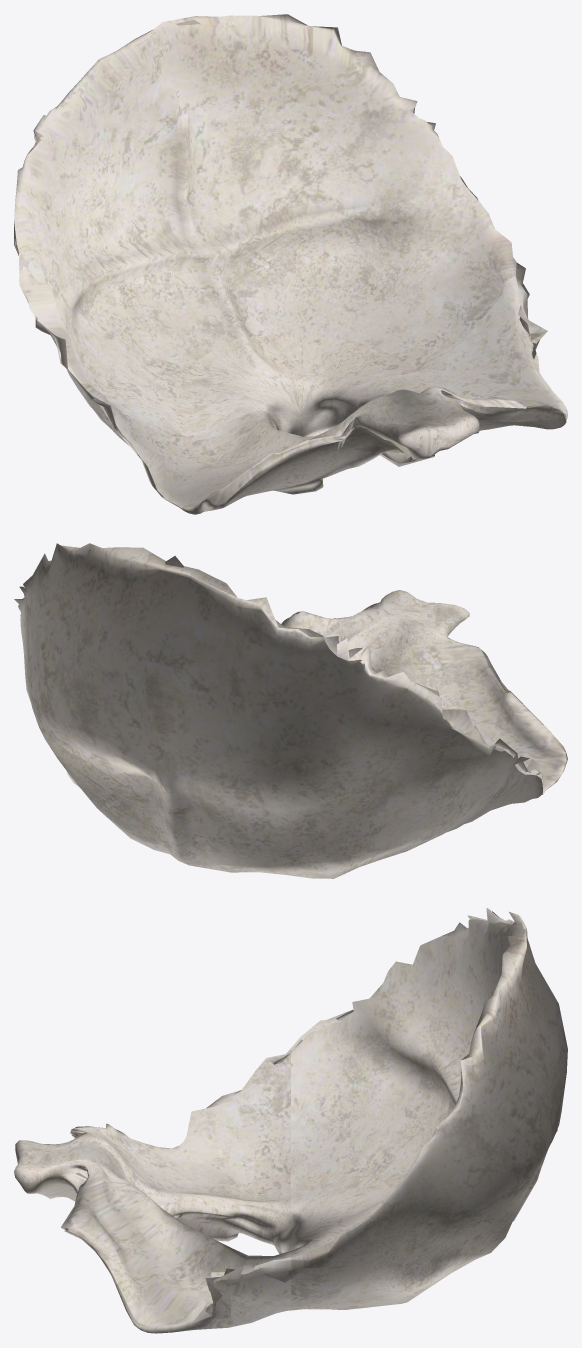
Rendered from Occipital.obj.
3 renders of one model, top to bottom at view 1: azimuth 30°, elevation 25°; view 2: azimuth 150°, elevation 25°; view 3: azimuth 270°, elevation 25°, orthographic. The views are drawn at different scales.
Parts seen in each view (by area): view 1: Occipital1:pPipe7; view 2: Occipital1:pPipe7; view 3: Occipital1:pPipe7.
Part boxes in pixels (bbox=[...]): Occipital1:pPipe7: bbox=[14, 14, 567, 514]; Occipital1:pPipe7: bbox=[14, 543, 567, 878]; Occipital1:pPipe7: bbox=[14, 908, 567, 1333].
Bounding box in the file's own units: 10.4 × 7.55 × 10.97.
1 material, 1 textured.
